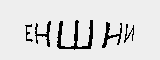Е: (21, 22, 34, 44)
И: (124, 20, 135, 44)
Н: (32, 20, 54, 48), (101, 21, 122, 49)
Ш: (56, 19, 94, 53)
